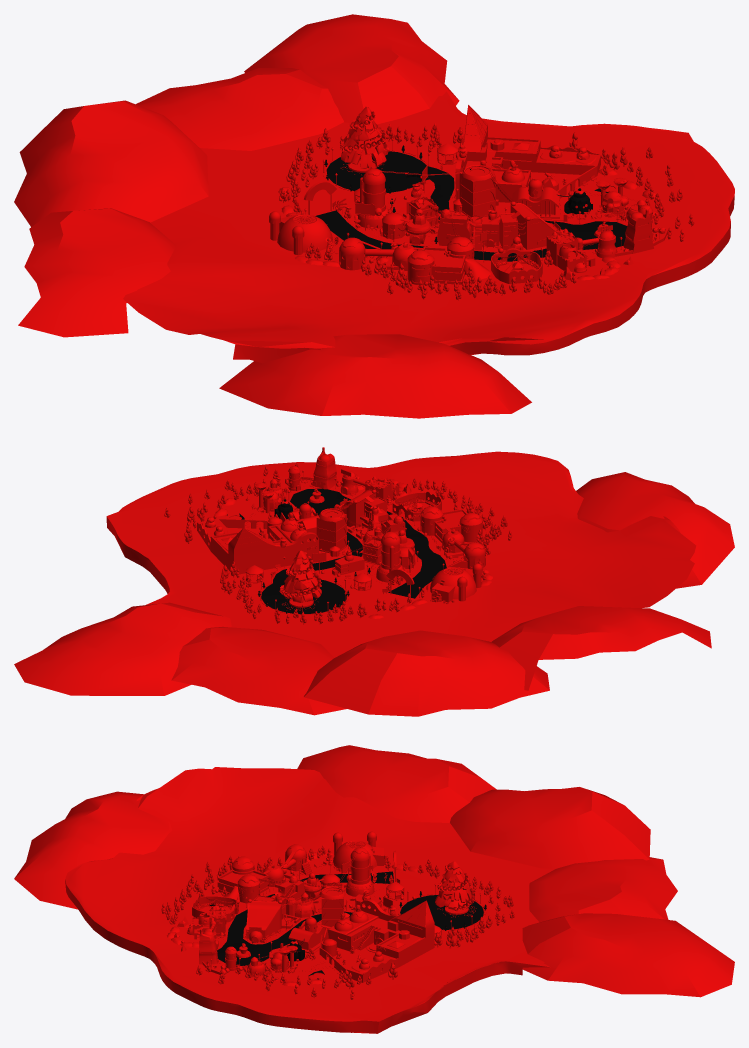
The model's file is Individual_PenguPlaza_CincoDeMayo_01.glb.
The picture shows the model from 3 angles, top to bottom: view 1: azimuth 30°, elevation 25°; view 2: azimuth 150°, elevation 25°; view 3: azimuth 270°, elevation 25°; orthographic projection. The views are drawn at different scales.
Visible parts, largest first — view 1: pasted__pasted__Berg, pasted__SnowPatch17, pasted__SnowPatch23, pasted__SnowPatch22, pasted__SnowPatch25, pasted__SnowPatch24, pasted__pasted__polySurface204, polySurface260, polySurface194, pCylinder31, Tree_54, polySurface246 (+8 smaller); view 2: pasted__pasted__Berg, pasted__SnowPatch23, pasted__SnowPatch25, pasted__SnowPatch24, pasted__SnowPatch22, pasted__SnowPatch17, pasted__pasted__polySurface204, polySurface194, polySurface260, pCylinder31, Tree_54, pCube113 (+9 smaller); view 3: pasted__pasted__Berg, pasted__SnowPatch25, pasted__SnowPatch23, pasted__SnowPatch22, pasted__SnowPatch17, pasted__SnowPatch24, pasted__pasted__polySurface204, pasted__typeMesh2, polySurface260, polySurface194, Tree_54, pSphere35 (+8 smaller).
Boxes of the visible parts, x1,y1,x2,y2 form: pasted__pasted__Berg: (123,91,734,363); pasted__SnowPatch17: (219,334,531,418); pasted__SnowPatch23: (14,100,208,226); pasted__SnowPatch22: (18,208,176,337); pasted__SnowPatch25: (244,14,459,124); pasted__SnowPatch24: (136,68,343,150); pasted__pasted__polySurface204: (455,105,600,202); polySurface260: (407,242,474,285); polySurface194: (269,211,332,254); pCylinder31: (453,165,495,217); Tree_54: (341,106,387,168); polySurface246: (506,178,564,220); pasted__pasted__Berg: (106,451,696,657); pasted__SnowPatch23: (304,630,549,716); pasted__SnowPatch25: (14,602,231,695); pasted__SnowPatch24: (171,626,346,715); pasted__SnowPatch22: (491,606,711,690); pasted__SnowPatch17: (576,472,734,588); pasted__pasted__polySurface204: (197,512,318,574); polySurface194: (430,563,482,602); polySurface260: (420,509,482,542); pCylinder31: (316,508,346,556); Tree_54: (283,550,321,602); pCube113: (442,528,485,569); pasted__pasted__Berg: (65,767,554,1033); pasted__SnowPatch25: (522,913,734,997); pasted__SnowPatch23: (450,787,650,868); pasted__SnowPatch22: (297,745,496,822); pasted__SnowPatch17: (14,791,172,909); pasted__SnowPatch24: (529,857,677,922); pasted__pasted__polySurface204: (319,899,434,982); pasted__typeMesh2: (246,895,325,942); polySurface260: (217,861,268,903); polySurface194: (333,831,383,871); Tree_54: (435,861,472,910); pSphere35: (345,850,374,896).
Size of the model in its own units: 190 by 28.36 by 207.
